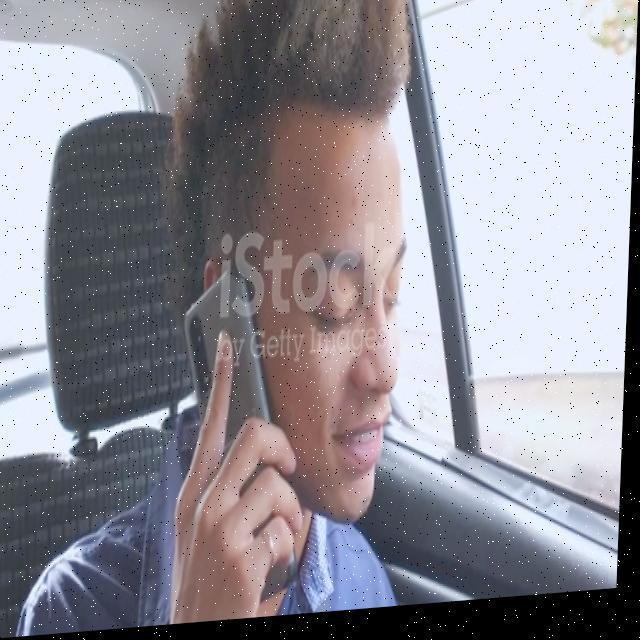PhoneCall: (177, 258, 313, 616)
